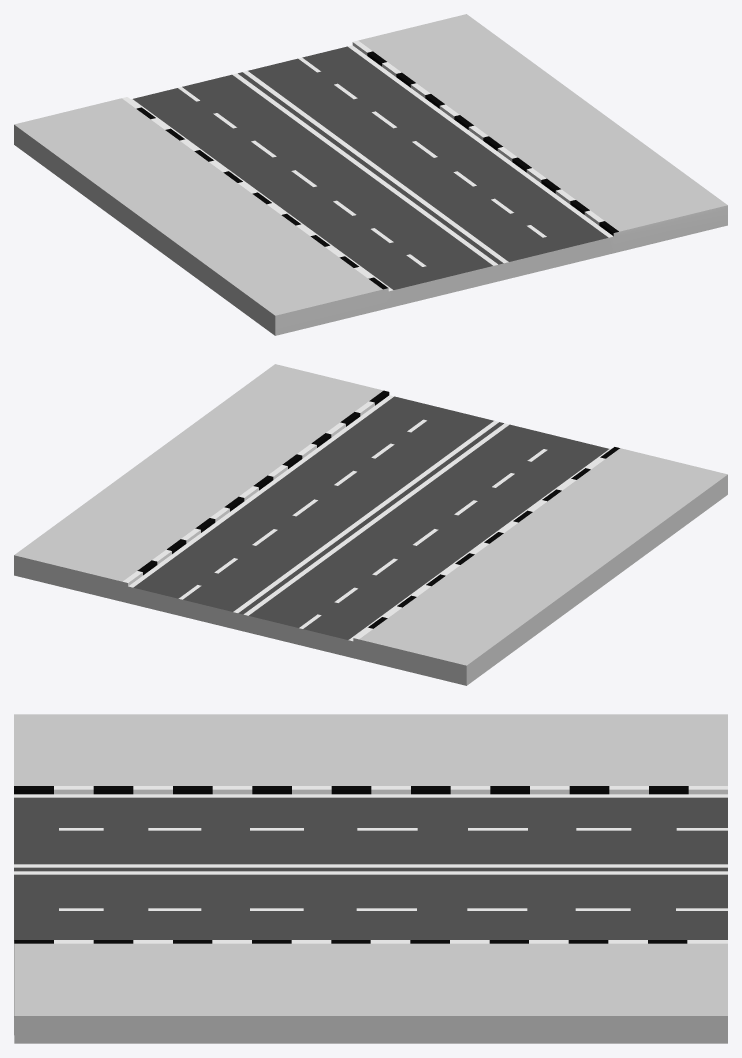
Rendered from Double lane straight road.FBX.
The picture shows the model from 3 angles, top to bottom: view 1: azimuth 30°, elevation 25°; view 2: azimuth 150°, elevation 25°; view 3: azimuth 270°, elevation 25°; orthographic projection. The views are drawn at different scales.
Visible parts, largest first — view 1: double lane straight road; view 2: double lane straight road; view 3: double lane straight road.
Boxes of the visible parts, left/top/right/bottom form: double lane straight road: left=14, top=14, right=727, bottom=335; double lane straight road: left=14, top=364, right=727, bottom=685; double lane straight road: left=14, top=714, right=727, bottom=1043.
Bounding box in the file's own units: 1104 × 47.24 × 1104.
